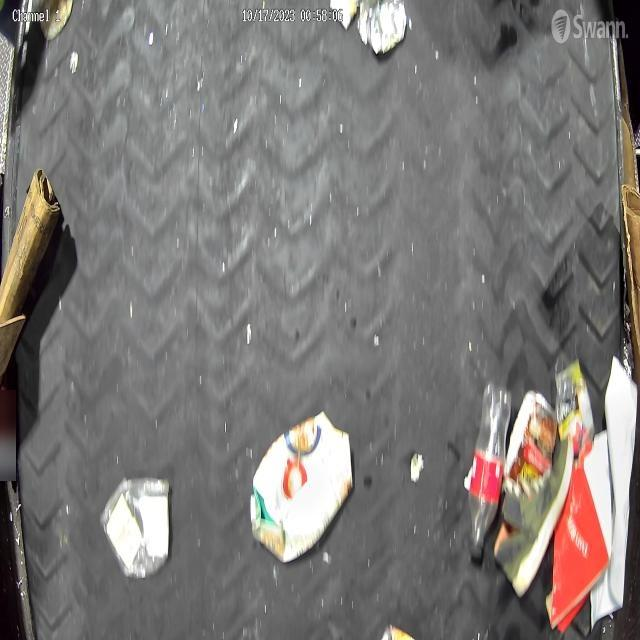non_white_jug: (250, 411, 354, 562)
plastic_bottle: (468, 377, 510, 556)
